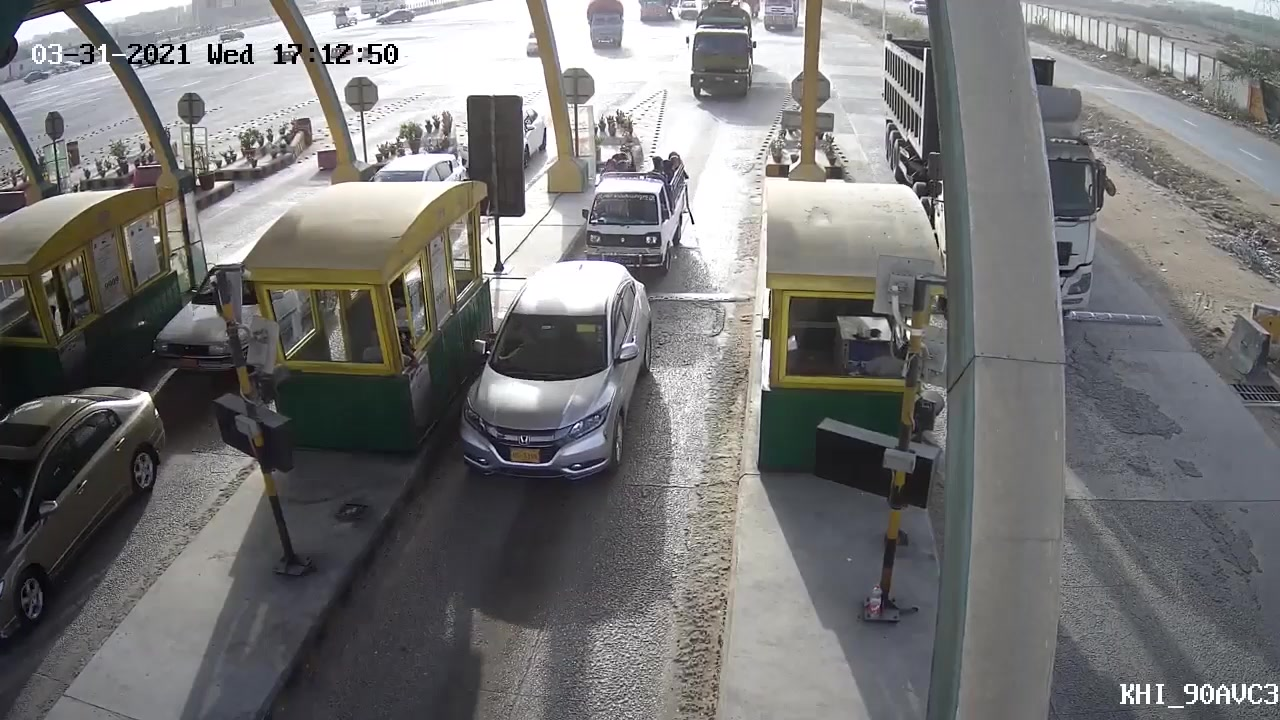F1: (452, 258, 659, 496), (575, 149, 694, 272)
